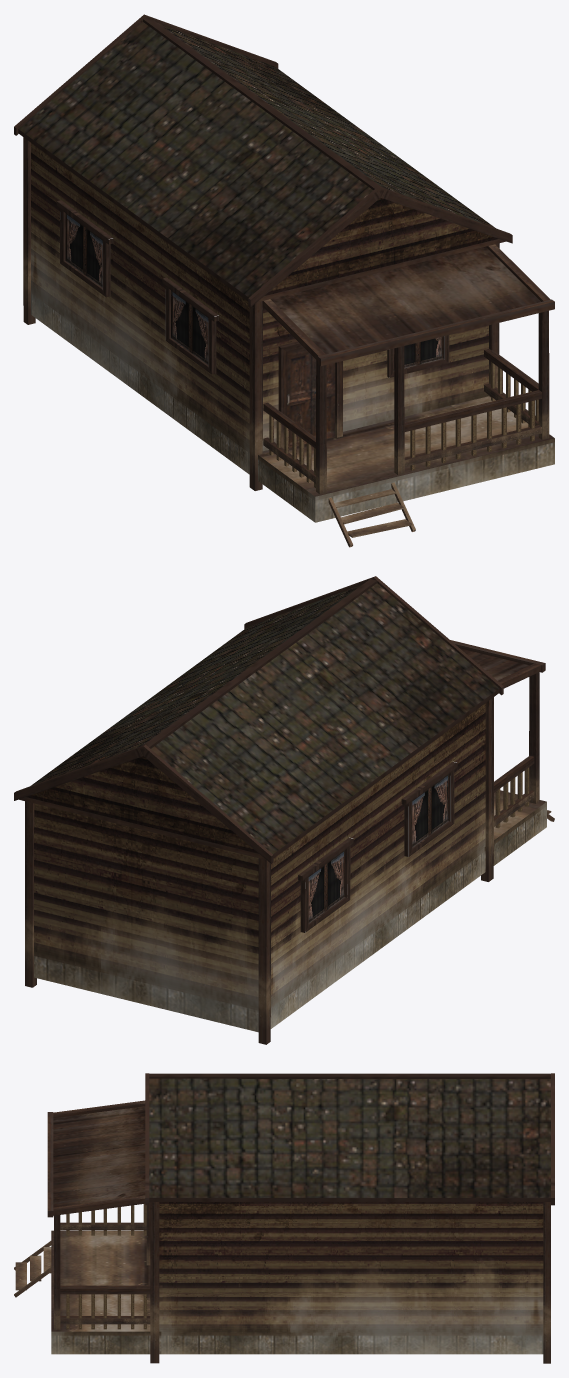
The model's file is Simple_house2.fbx.
3 views of the same model, one above another, from view 1: azimuth 30°, elevation 25°; view 2: azimuth 150°, elevation 25°; view 3: azimuth 270°, elevation 25° (orthographic). The views are drawn at different scales.
Parts seen in each view (by area): view 1: Cube.018; view 2: Cube.018; view 3: Cube.018.
Boxes of the visible parts, x1,y1,x2,y2 form: Cube.018: (14, 14, 554, 547); Cube.018: (14, 576, 554, 1044); Cube.018: (14, 1073, 554, 1363).
Bounding box in the file's own units: 5.37 × 5.47 × 11.1.
Materials: 1 (1 with a texture image).
